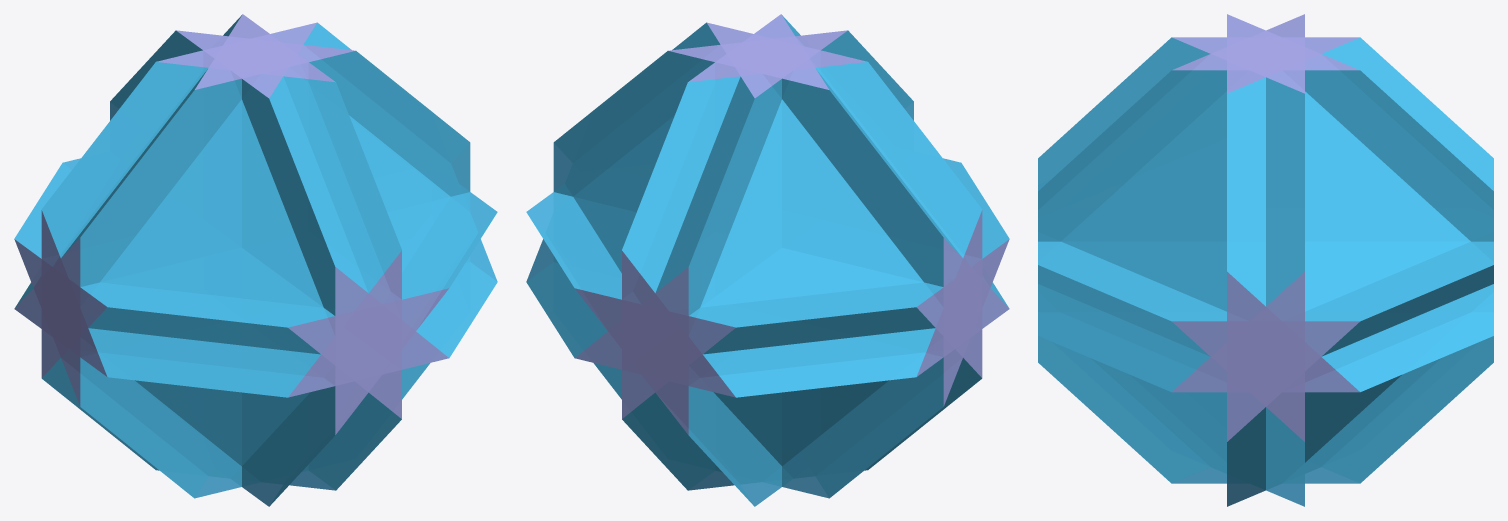
Rendered from CubitruncatedCuboctahedron.obj.
3 renders of one model, left to right at view 1: azimuth 30°, elevation 25°; view 2: azimuth 150°, elevation 25°; view 3: azimuth 270°, elevation 25°, orthographic.
Bounding box in the file's own units: 2.41 × 2.41 × 2.41.
